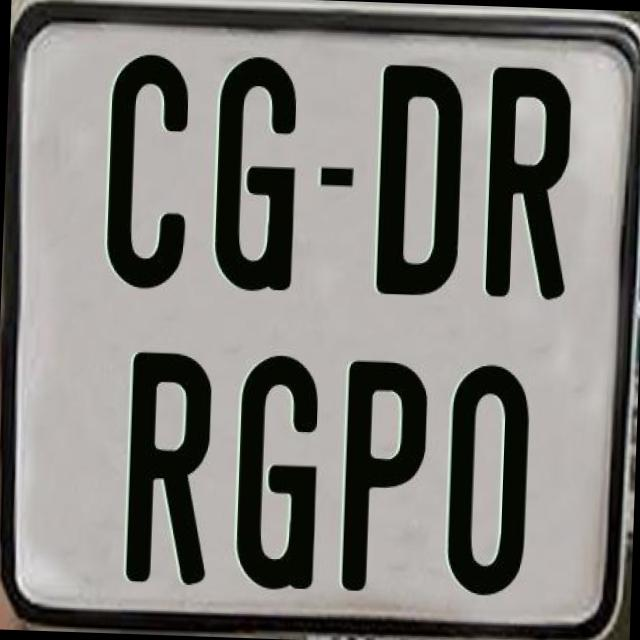0: (442, 363, 530, 601)
C: (102, 53, 194, 300)
D: (373, 60, 464, 298)
G: (234, 351, 324, 595), (212, 56, 298, 300)
P: (337, 358, 431, 596)
R: (481, 66, 573, 306), (125, 348, 218, 580)
